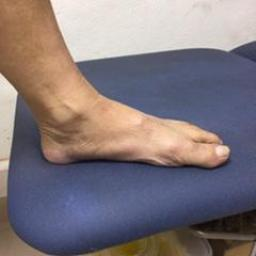Medial View -Left Foot-: (13, 81, 236, 192)
